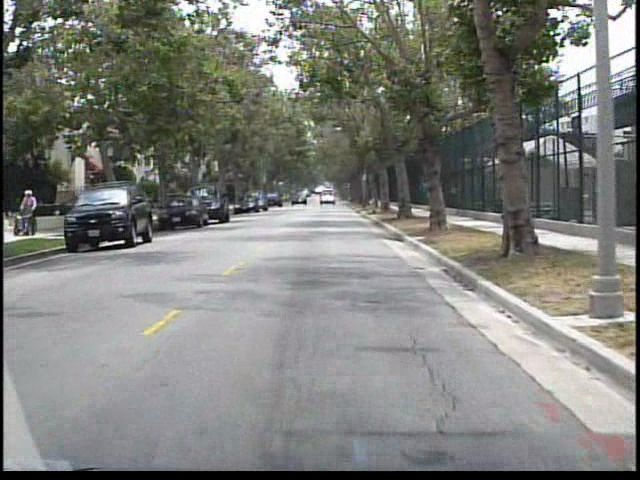person: (22, 187, 42, 237)
